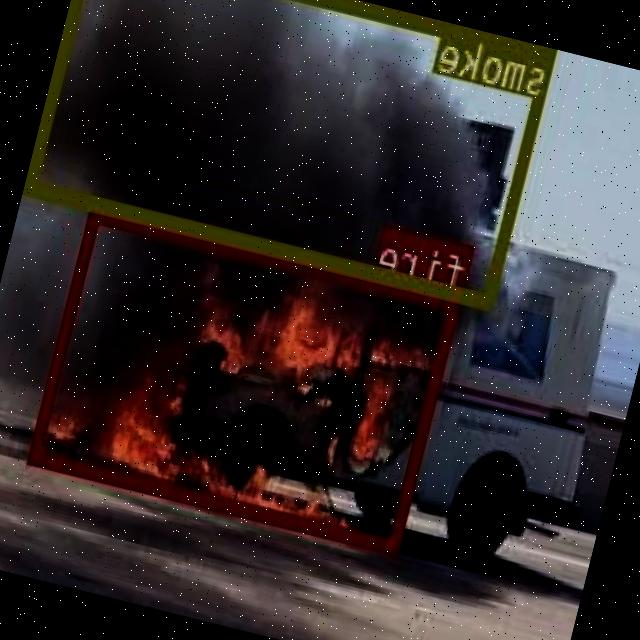fire: (31, 205, 462, 552)
smoke: (28, 0, 559, 306)
